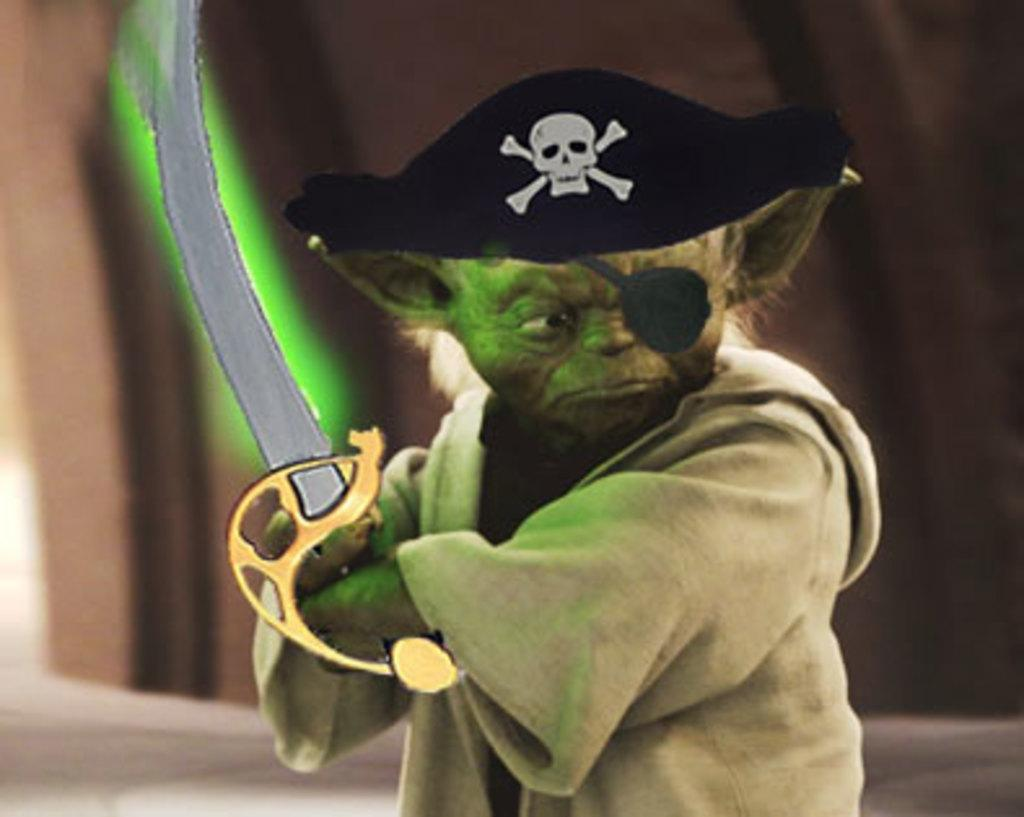Hat: (275, 72, 853, 261)
